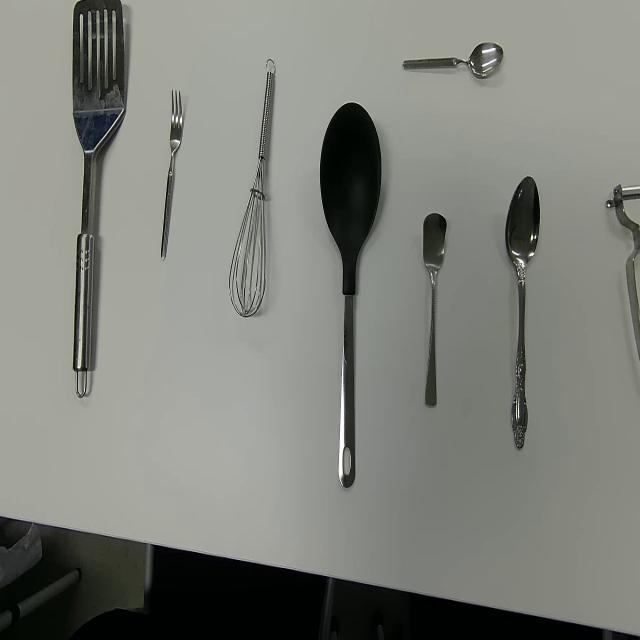Desert-Spoon: (505, 175, 541, 452)
Dinner-Fork: (160, 87, 183, 261)
Peeler: (605, 180, 640, 364)
Serving-Spoon: (319, 101, 383, 490), (71, 0, 126, 401)
Tea-Spoon: (422, 211, 448, 409), (402, 39, 504, 80)
Whisk: (228, 57, 276, 319)
